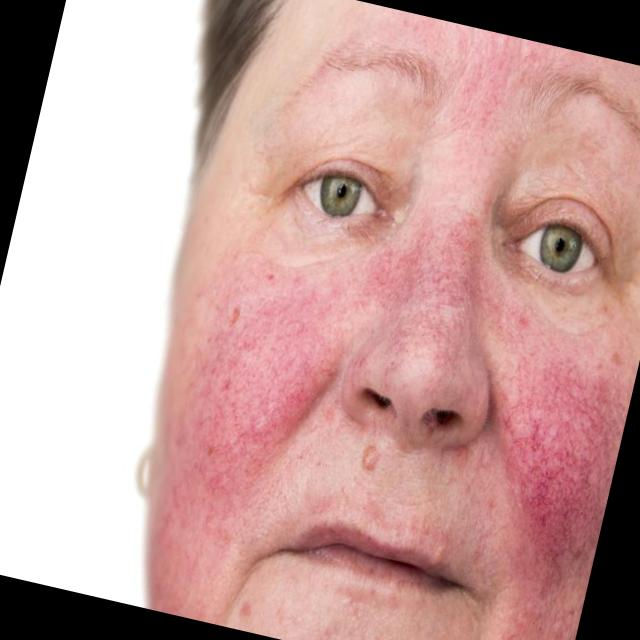redness: (149, 249, 344, 611), (493, 359, 621, 640), (353, 208, 525, 358), (415, 22, 561, 163)
